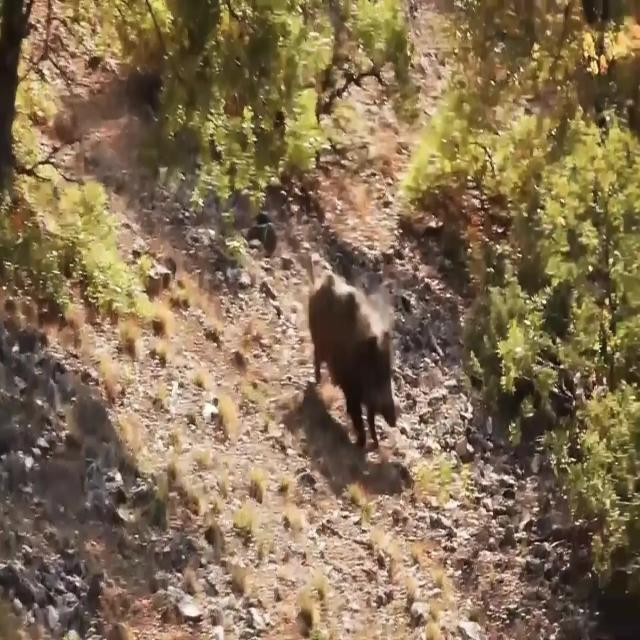pig: (279, 259, 421, 438)
